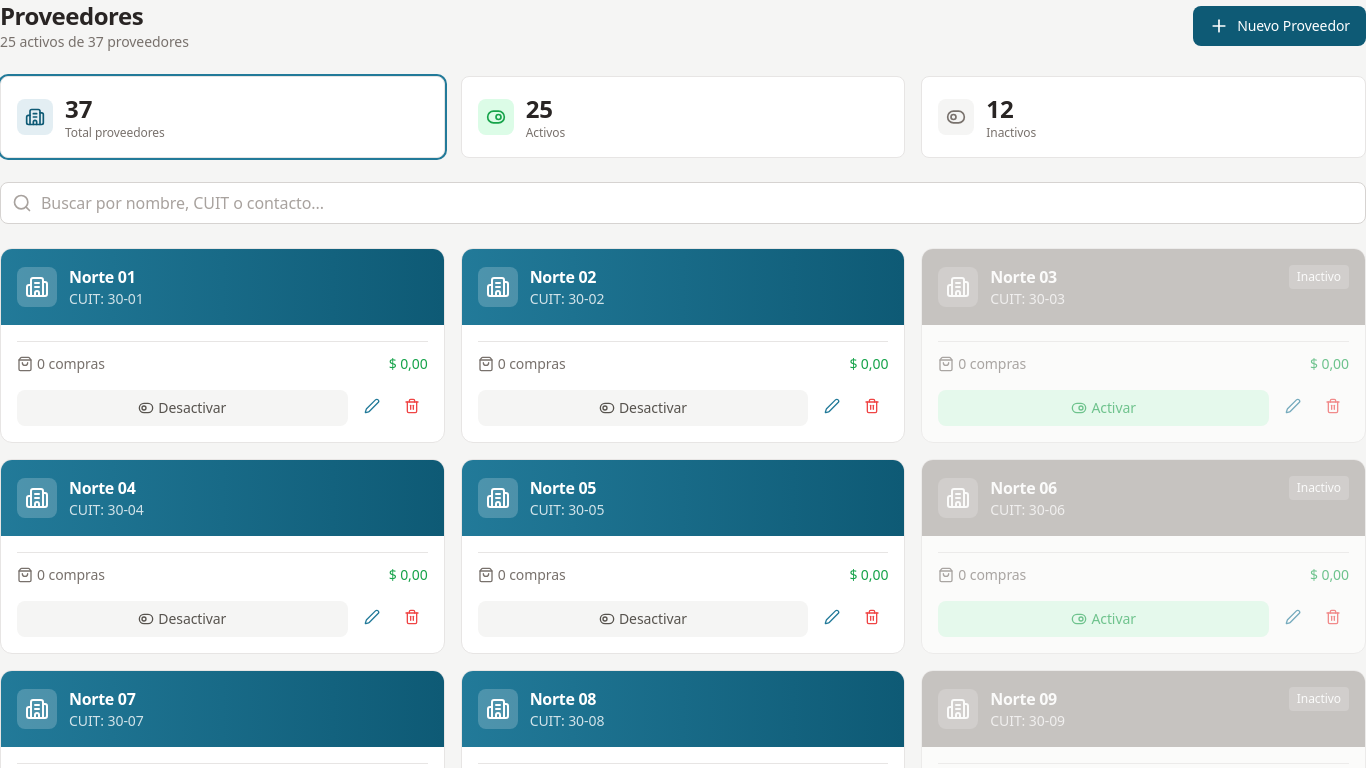
VistaProveedores — el total es el de la lista filtrada completa › el pie cuenta los que pasan el filtro, no los de la pagina ni los 37
Step 1. Type "sur" into the field → (683, 203), box [0, 182, 1365, 224]
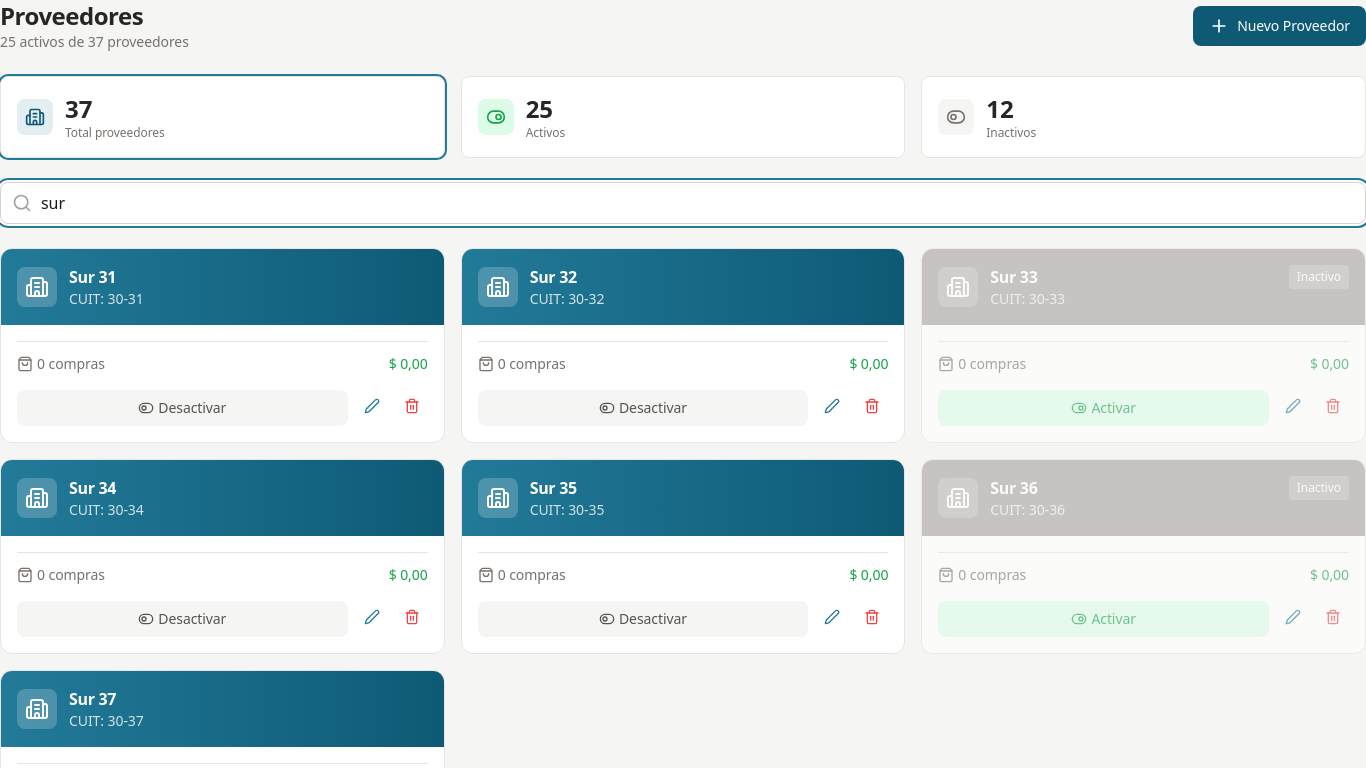
Step 2. Replace the text in the field with "norte" → (683, 203), box [0, 182, 1365, 224]
(page scrolled)
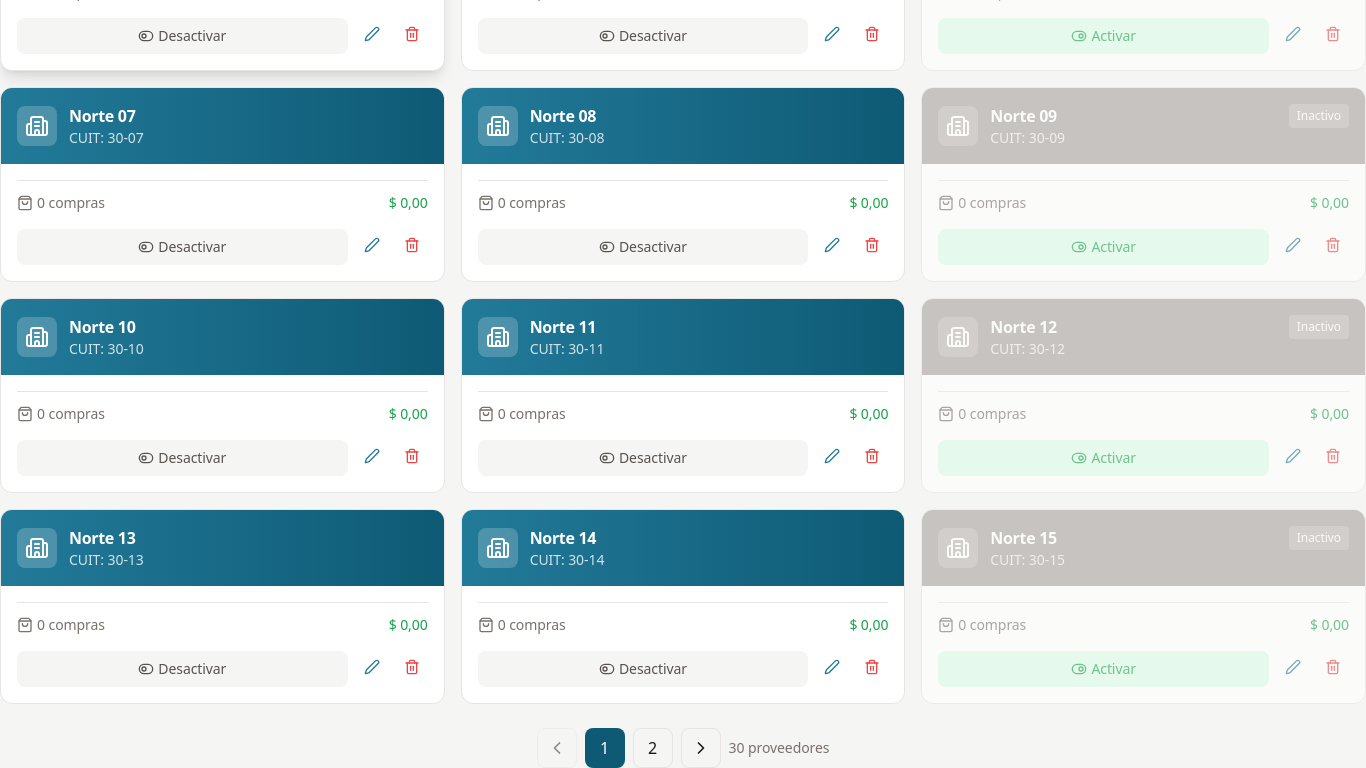
Now the text "30 proveedores" is shown, box [728, 738, 829, 758]
